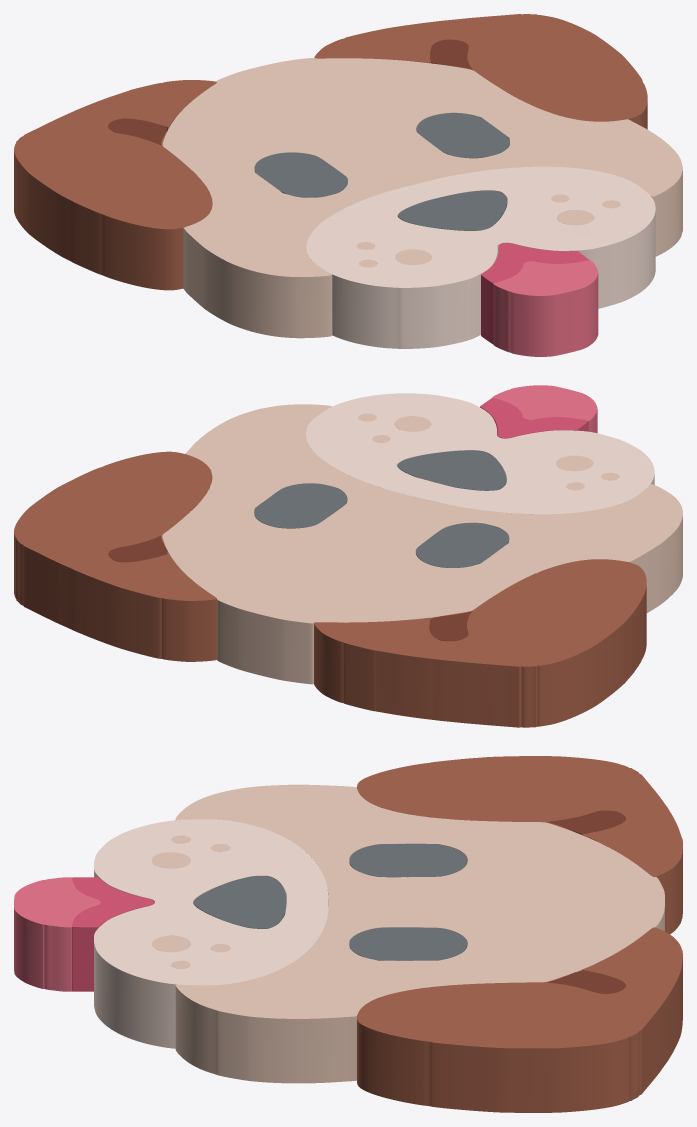
The model's file is cachorroDAE.dae.
3 views of the same model, one above another, from view 1: azimuth 30°, elevation 25°; view 2: azimuth 150°, elevation 25°; view 3: azimuth 270°, elevation 25° (orthographic). The views are drawn at different scales.
Visible parts, largest first — view 1: cachorro; view 2: cachorro; view 3: cachorro.
Part boxes in pixels (left/top/right/bottom): cachorro: left=14, top=14, right=682, bottom=356; cachorro: left=14, top=385, right=682, bottom=727; cachorro: left=14, top=756, right=682, bottom=1112.
Bounding box in the file's own units: 97.28 × 94.04 × 10.
